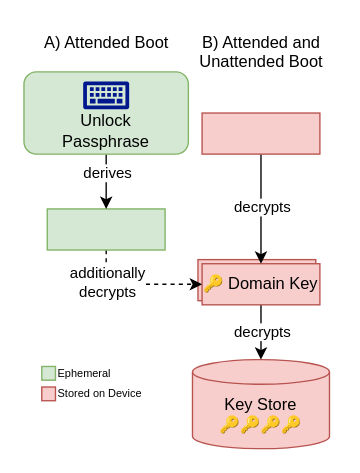
Image size: 360x473. Some labels were removed from this diagram. Each missing label, with the box of its shape:
🔑 Device Key: (201, 112, 320, 154)
🔑 Unlock Key: (46, 208, 165, 250)
